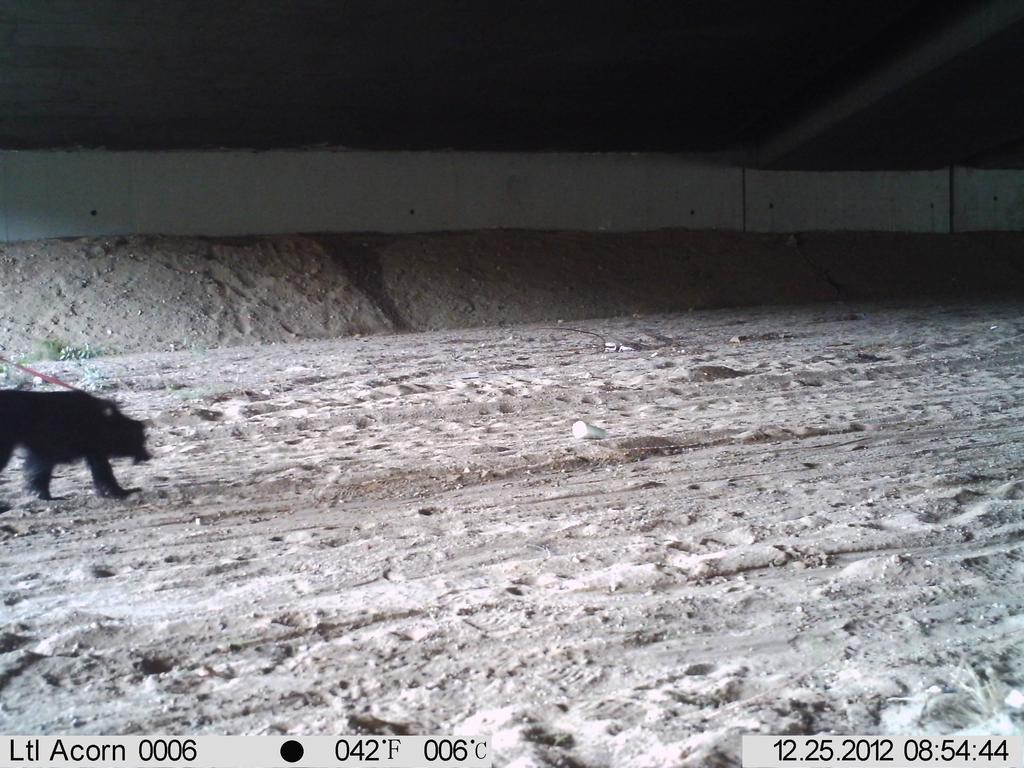dog: (3, 351, 167, 527)
